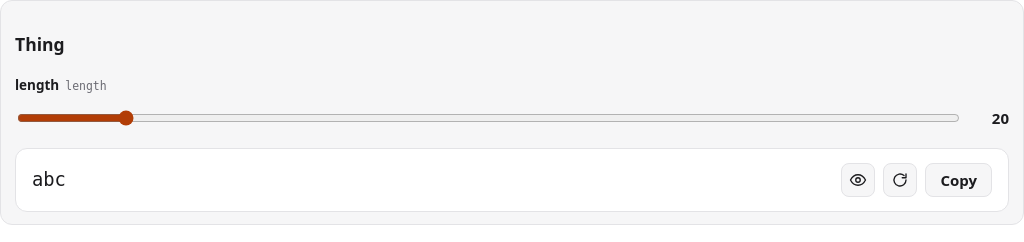
GuiFormSection live › Generate again is disabled while a run is pending and enabled when it resolves
This screenshot has width=1024, height=242.
Click the button with test id "again": (900, 180) [883,163,917,197]
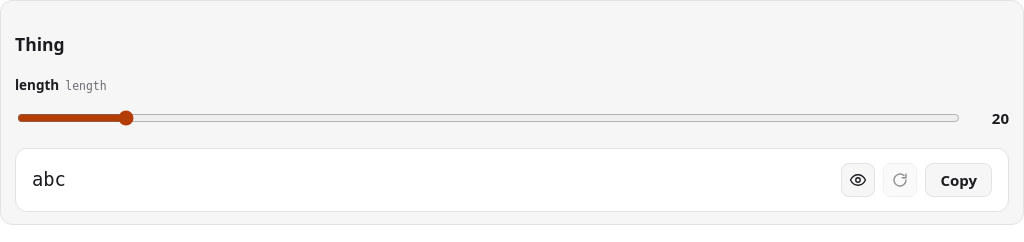
Check: the button with test id "again" is disabled
Click the button with test id "again": (900, 180) [883,163,917,197]
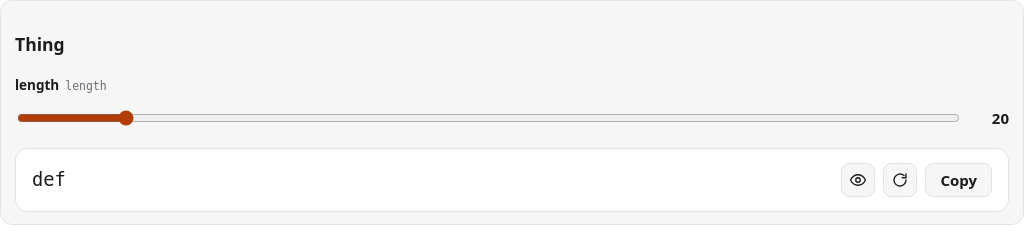
Check: the button with test id "again" is enabled, box [883,163,917,197]
